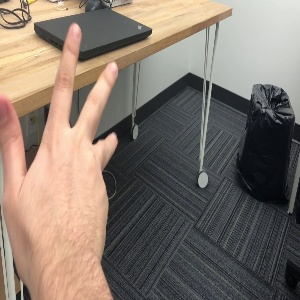hand: (1, 23, 117, 265)
